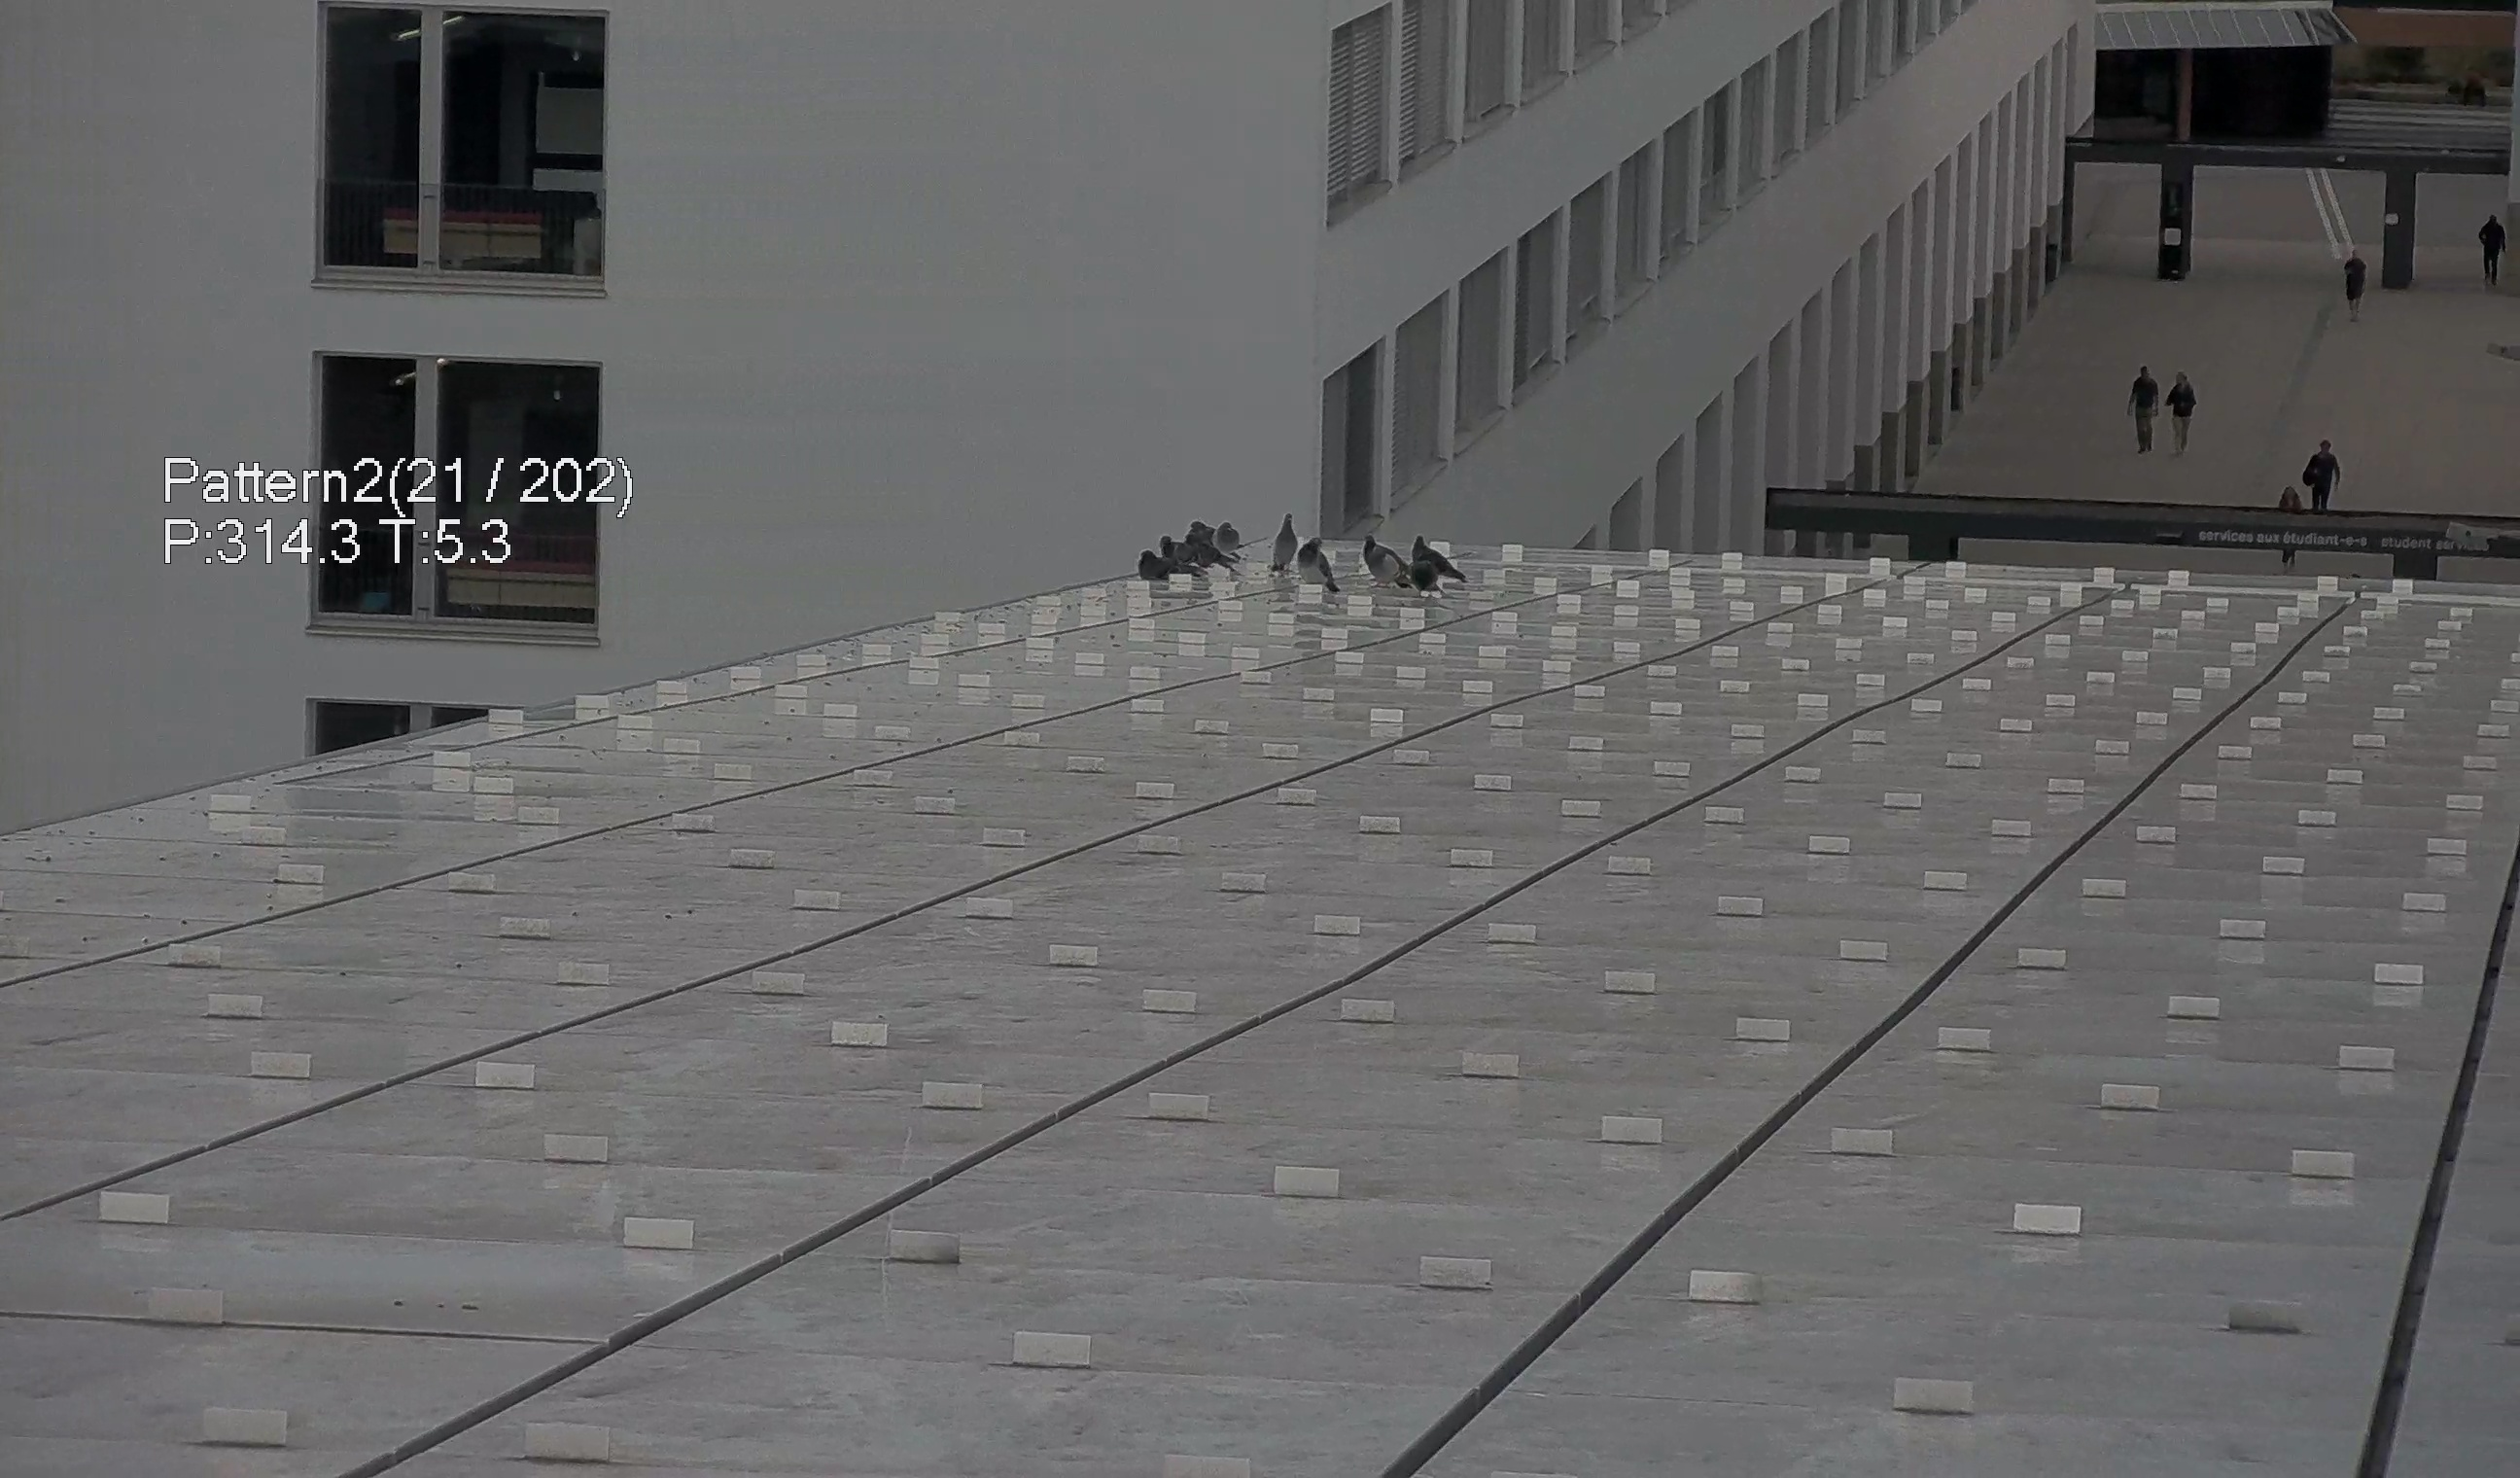Pigeon: (1410, 530, 1465, 584), (1363, 535, 1410, 589), (1298, 535, 1340, 591), (1266, 509, 1301, 575), (1127, 547, 1192, 581), (1400, 552, 1451, 595), (1155, 535, 1192, 567), (1210, 517, 1240, 556), (1184, 516, 1217, 542)
